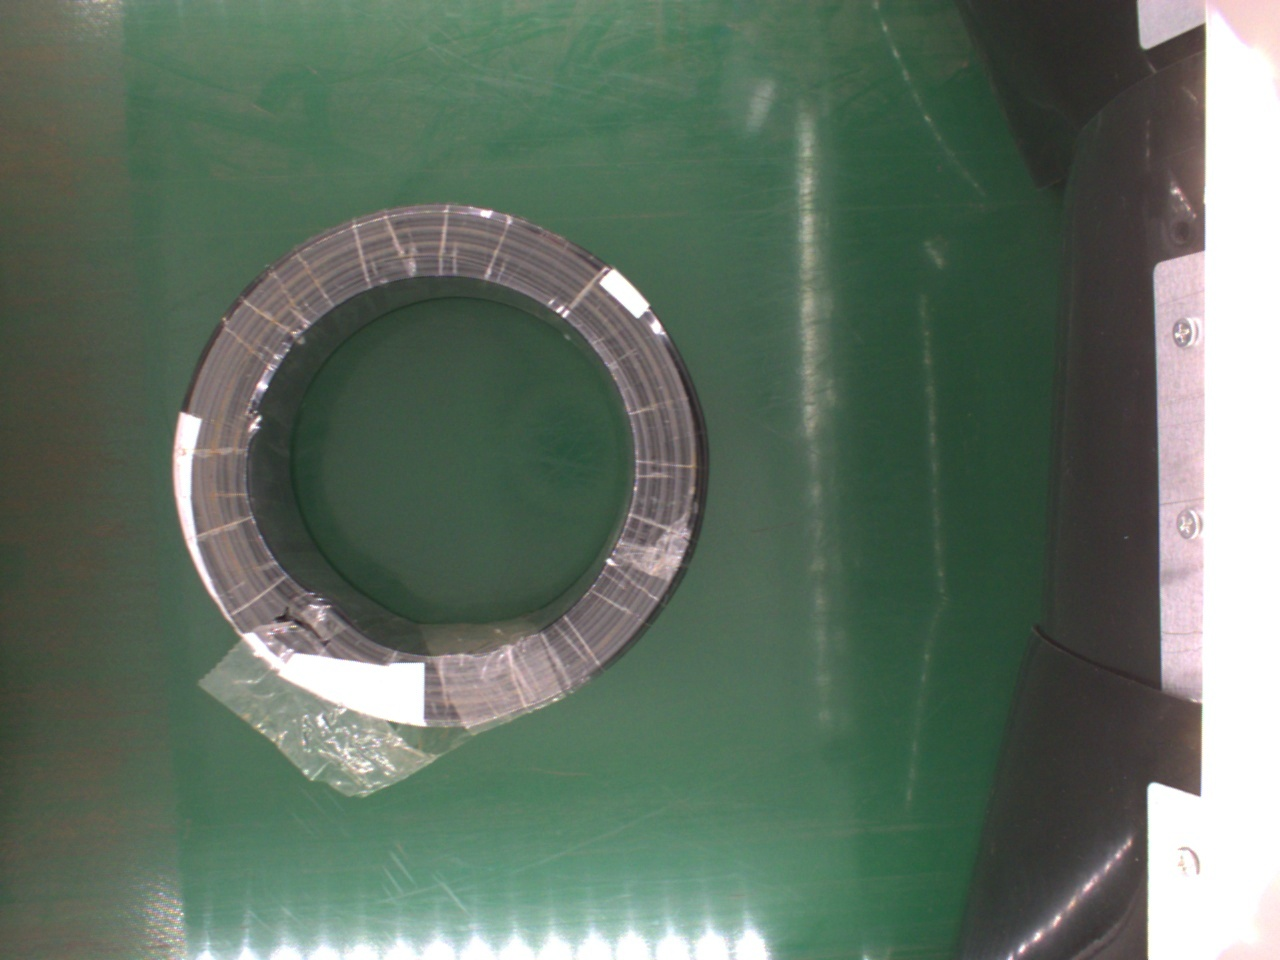black: (172, 203, 705, 729)
